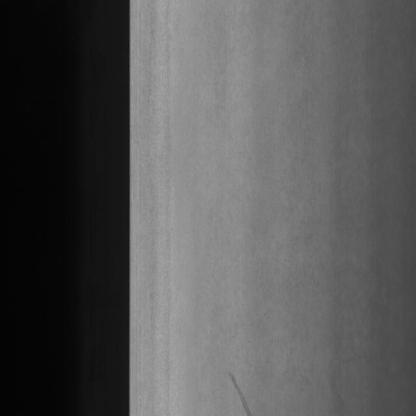water_spot: (222, 356, 254, 416)
